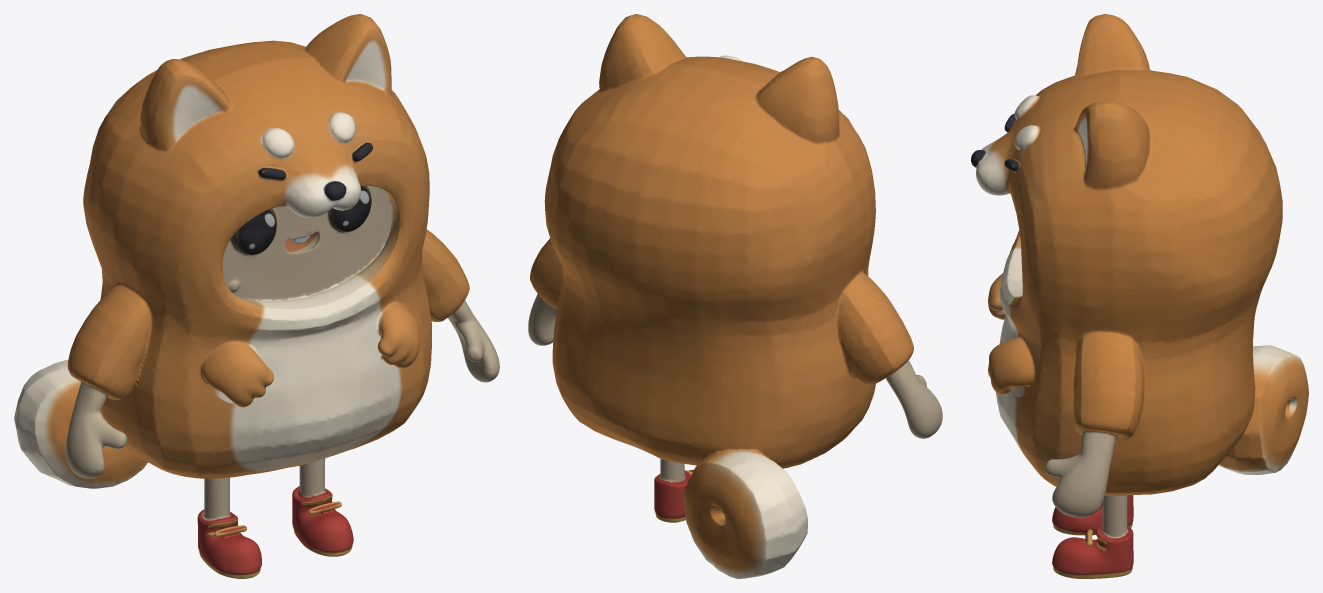
Rendered from cozy-shiba.glb.
The picture shows the model from 3 angles, left to right: view 1: azimuth 30°, elevation 25°; view 2: azimuth 150°, elevation 25°; view 3: azimuth 270°, elevation 25°; orthographic projection. The views are drawn at different scales.
Bounding box in the file's own units: 1.65 × 1.9 × 1.19.
Materials: 1 (1 with a texture image).
